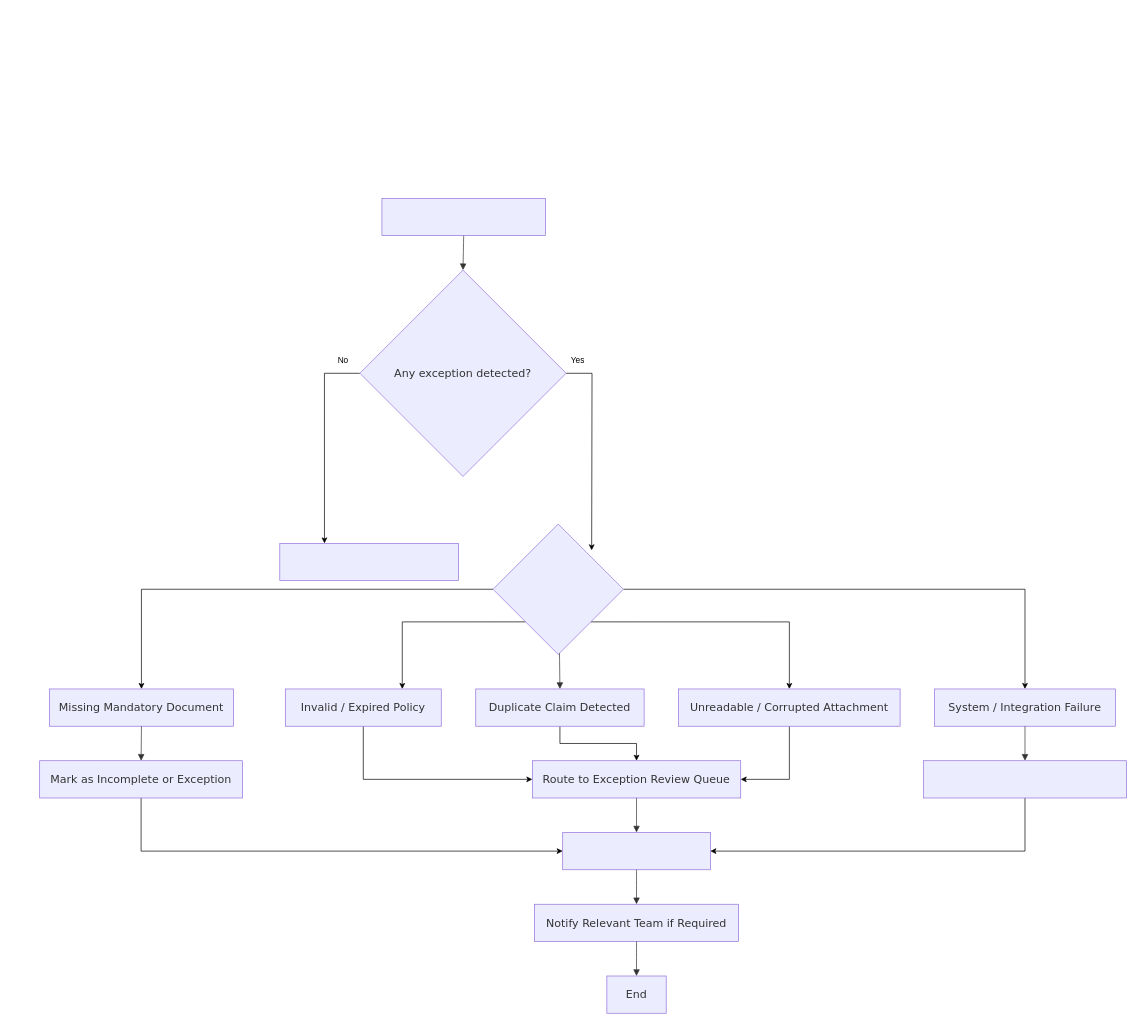
The diagram is 1139 pixels wide and 1025 high, and some of its shapes have lost their labels. The centre of each missing label's shape, as x and y in pixels:
Claim Processing Started: point (463, 217)
Continue Normal Processing: point (369, 562)
Exception Type: point (557, 588)
Log Exception Reason: point (636, 851)
Retry or Route to Manual Review: point (1024, 779)
